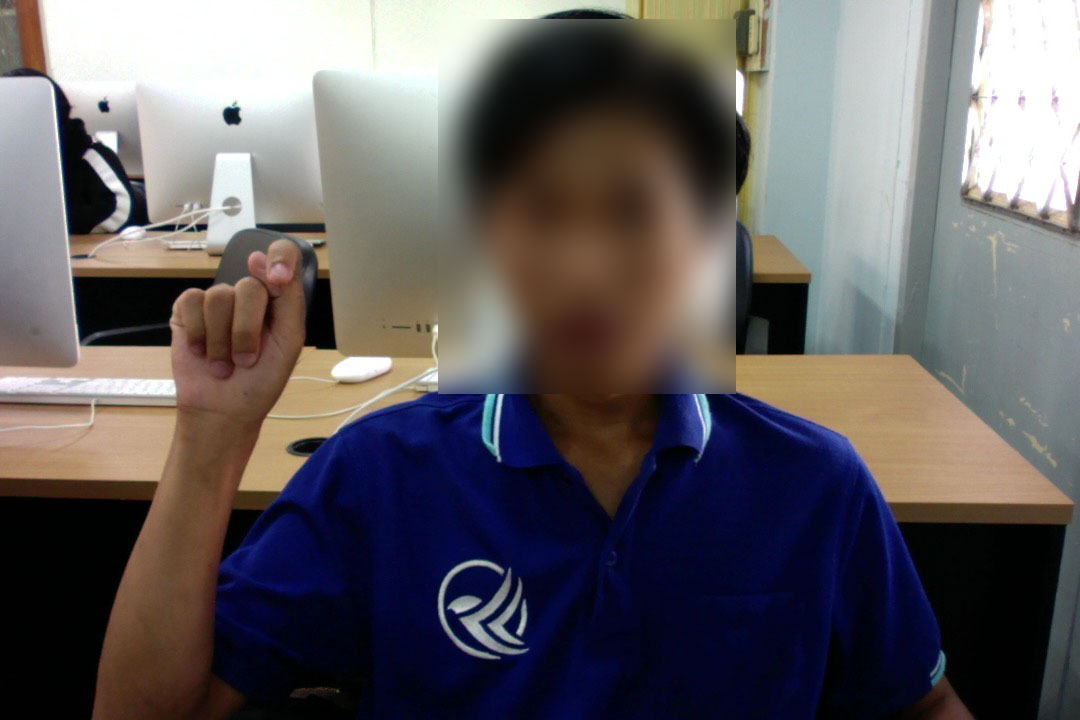tor: (155, 223, 318, 450)
